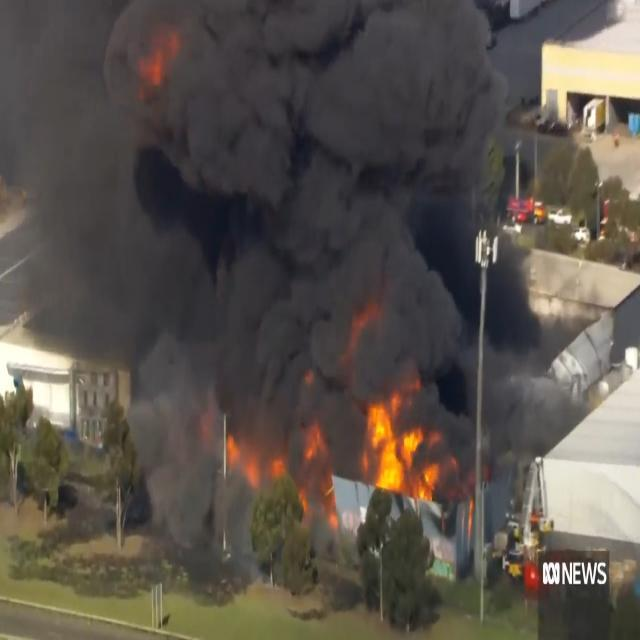fire: (224, 418, 346, 526), (362, 384, 438, 491)
